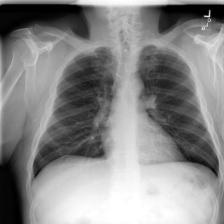normal: (27, 42, 224, 191)
